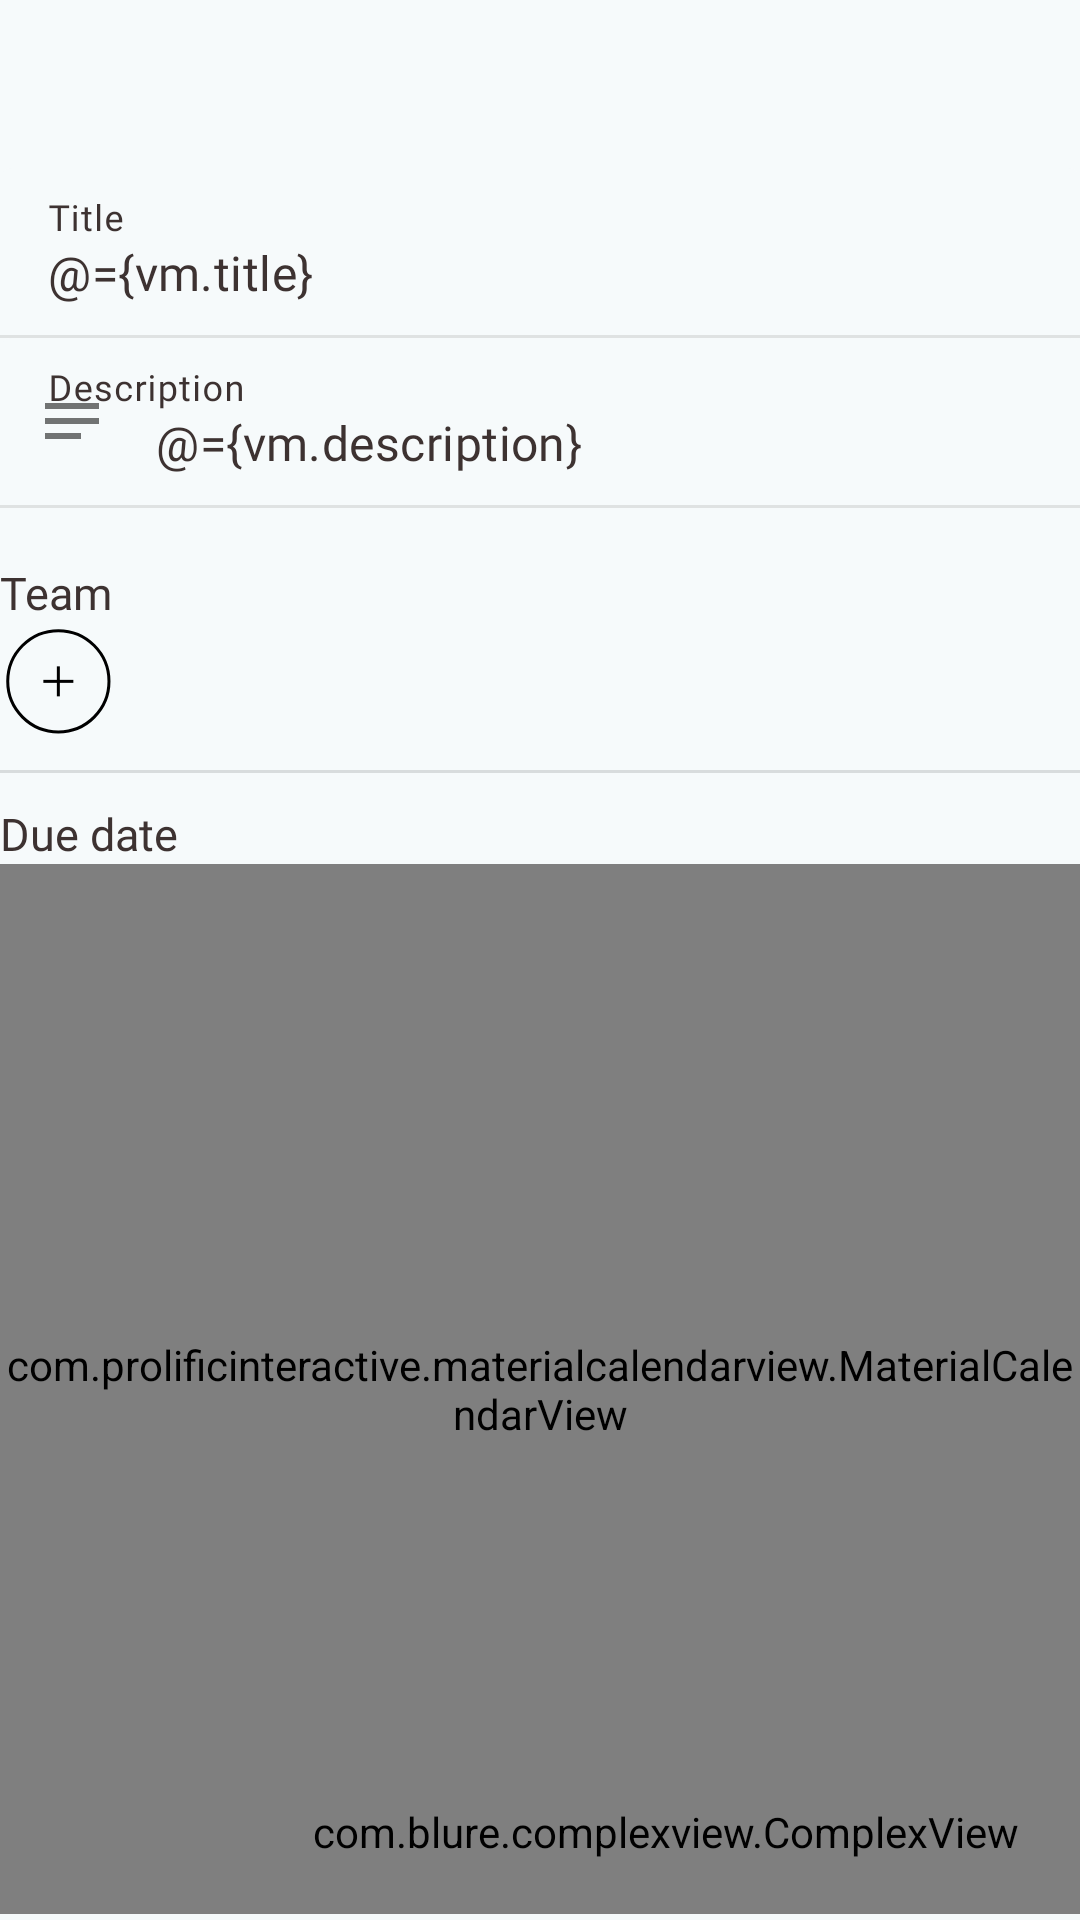

Screen size 1080w x 1920h. Icon name, then its box in pixels as BBox(x1, y1, x2, y2):
add person: BBox(6, 629, 111, 734)
